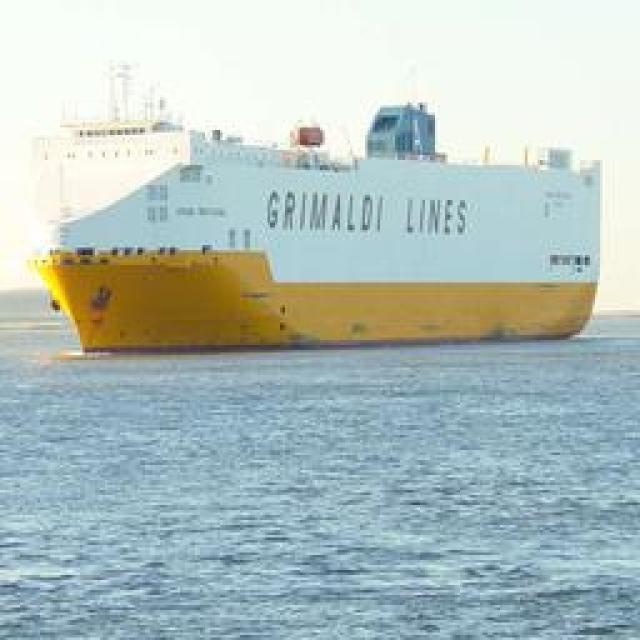ship2: (27, 63, 603, 354)
